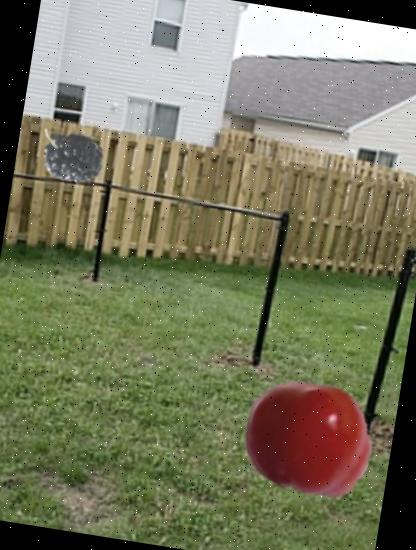Mulberry: (31, 122, 113, 204)
Tomato: (234, 362, 384, 512)
